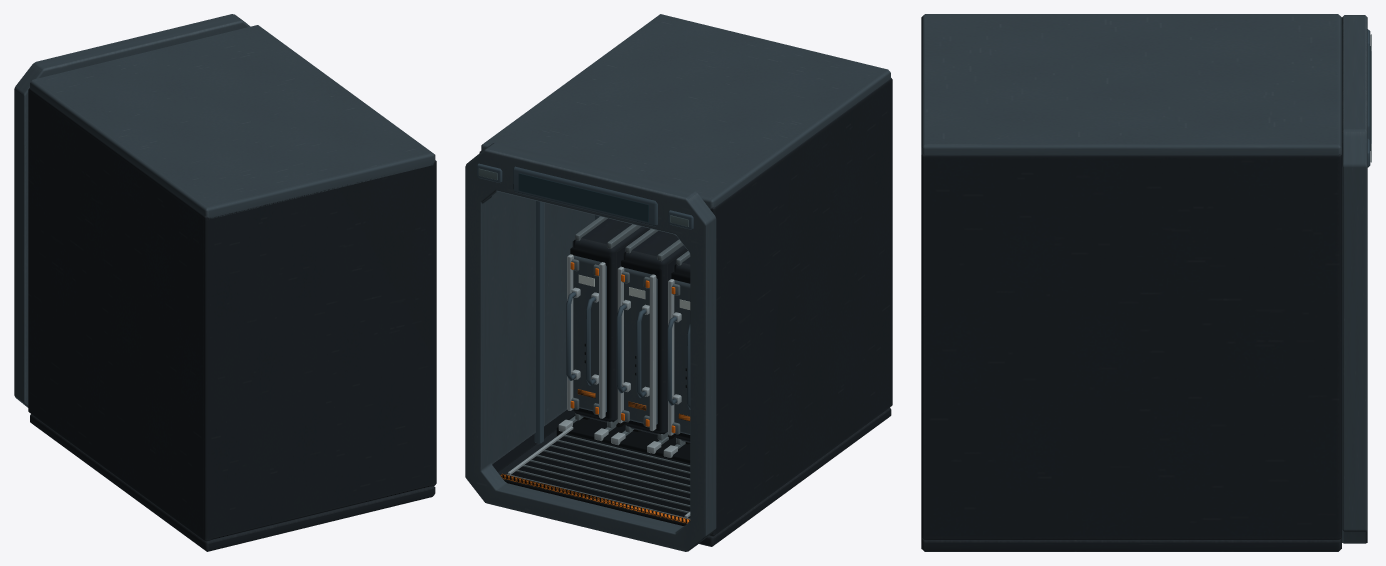
Rendered from BatteryBay_LOD1.fbx.
3 views of the same model, side by side, from view 1: azimuth 30°, elevation 25°; view 2: azimuth 150°, elevation 25°; view 3: azimuth 270°, elevation 25° (orthographic). The views are drawn at different scales.
Visible parts, largest first — view 1: Housing, Frame; view 2: Housing, Frame, Cassette04, Cassette03, Cassette02, Backplane, ActiveDisplay; view 3: Housing, Frame.
Boxes of the visible parts, <box> form: Housing: <box>28,25,436,551</box>; Frame: <box>14,14,250,407</box>; Housing: <box>479,14,892,546</box>; Frame: <box>465,142,716,551</box>; Cassette04: <box>566,216,650,428</box>; Cassette03: <box>616,229,687,440</box>; Cassette02: <box>667,251,690,444</box>; Backplane: <box>556,414,690,463</box>; ActiveDisplay: <box>518,173,648,222</box>; Housing: <box>921,14,1341,551</box>; Frame: <box>1342,15,1370,543</box>.
Bounding box in the file's own units: 2.3 × 3.22 × 3.17.
